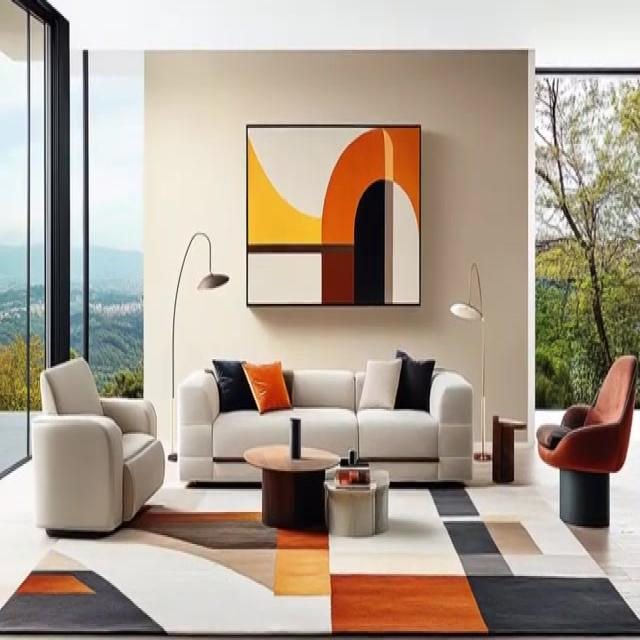obstacle: (177, 356, 473, 484), (31, 354, 164, 535), (535, 352, 637, 526), (242, 441, 341, 528)
